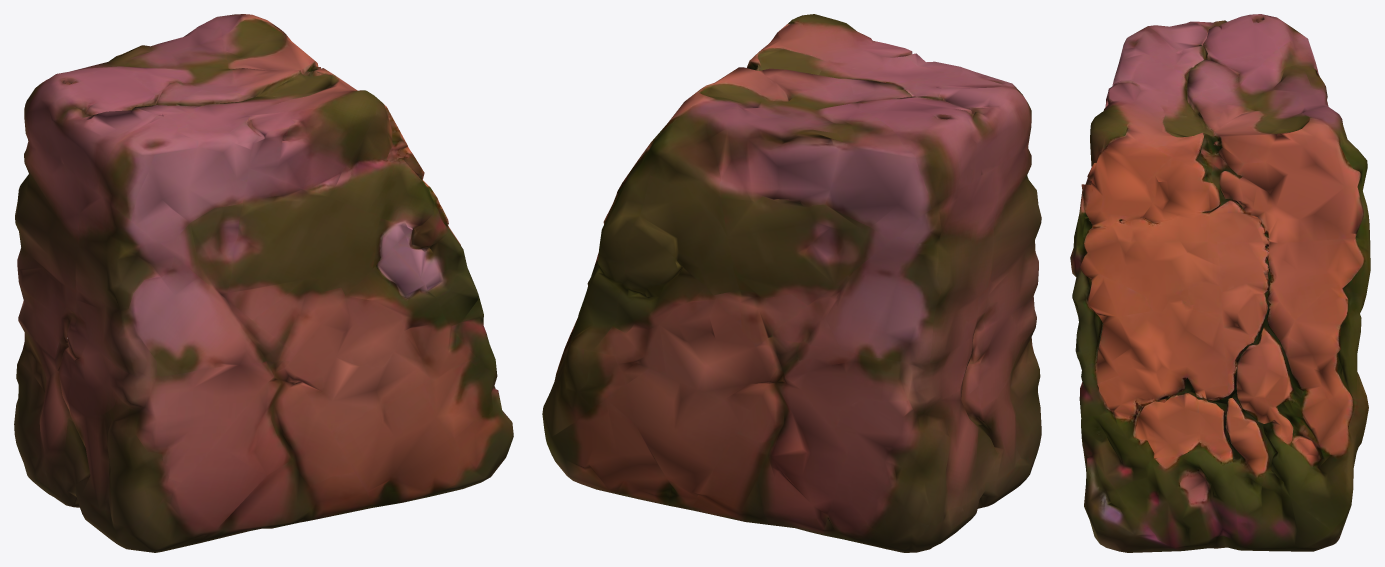
File: rock_pink.glb
3 renders of one model, left to right at view 1: azimuth 30°, elevation 25°; view 2: azimuth 150°, elevation 25°; view 3: azimuth 270°, elevation 25°, orthographic. The views are drawn at different scales.
Visible parts, largest first — view 1: tripo_node_b5f94294; view 2: tripo_node_b5f94294; view 3: tripo_node_b5f94294.
Boxes of the visible parts, box(x1,y1,x2,y2) form: tripo_node_b5f94294: box(14, 14, 513, 552); tripo_node_b5f94294: box(542, 14, 1041, 552); tripo_node_b5f94294: box(1070, 14, 1370, 552).
Size of the model in its own units: 0.9568 by 0.9796 by 0.6954.
Materials: 1 (1 with a texture image).
